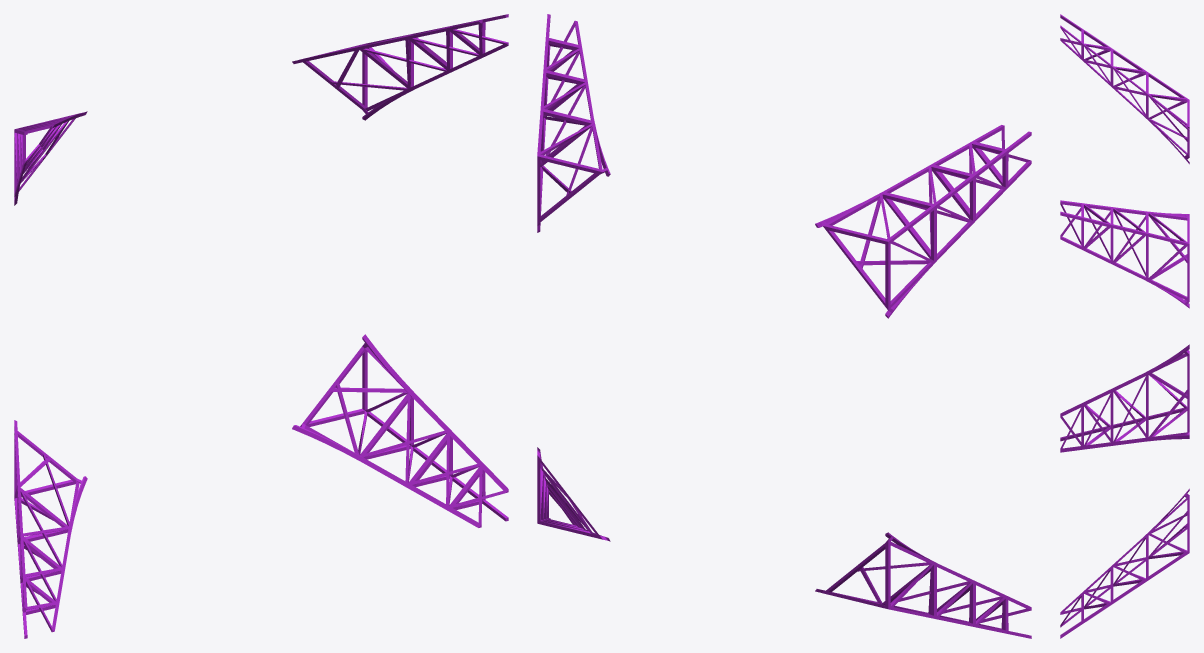
File: tower_04.glb
The picture shows the model from 3 angles, left to right: view 1: azimuth 30°, elevation 25°; view 2: azimuth 150°, elevation 25°; view 3: azimuth 270°, elevation 25°; orthographic projection. The views are drawn at different scales.
Parts seen in each view (by area): view 1: H2a; view 2: H2a; view 3: H2a.
Part boxes in pixels (box(x1,y1,x2,y2)): H2a: box(14, 14, 508, 638); H2a: box(537, 14, 1031, 638); H2a: box(1060, 14, 1189, 638).
Bounding box in the file's own units: 8 × 8 × 2.2.
